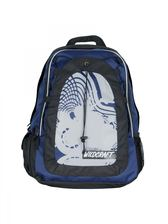bag: (17, 36, 148, 191)
